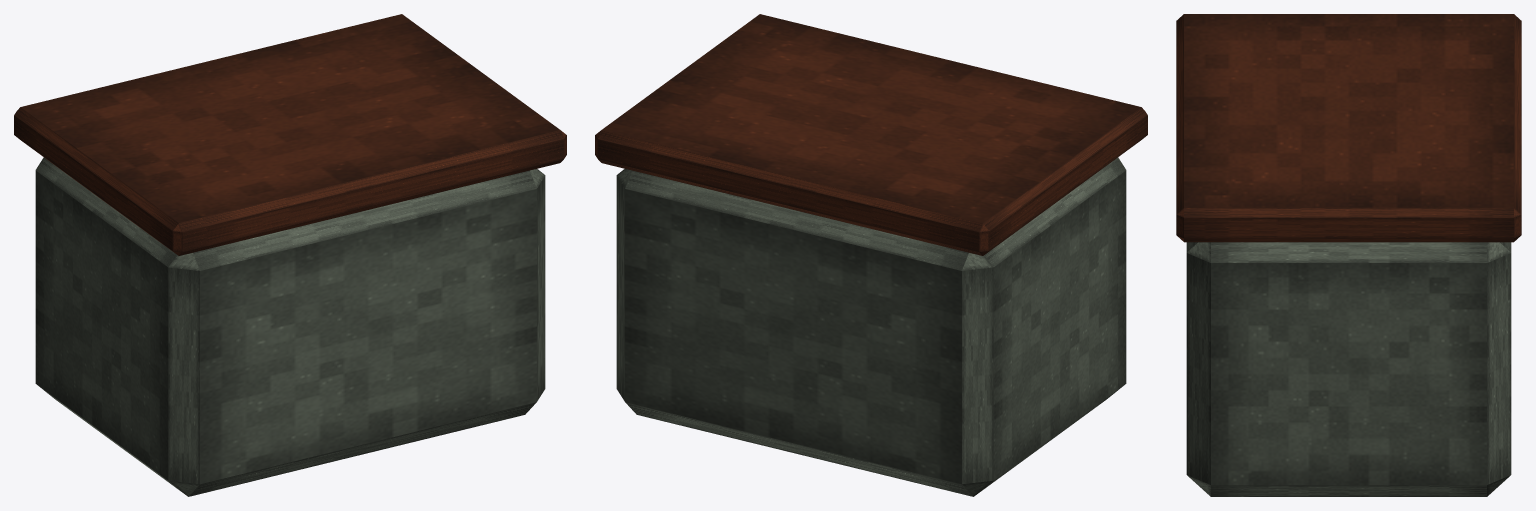
Rendered from THStage_FindSupport_05.fbx.
3 renders of one model, left to right at view 1: azimuth 30°, elevation 25°; view 2: azimuth 150°, elevation 25°; view 3: azimuth 270°, elevation 25°, orthographic. The views are drawn at different scales.
Visible parts, largest first — view 1: THStage_FindSupport_05.009; view 2: THStage_FindSupport_05.009; view 3: THStage_FindSupport_05.009.
Part boxes in pixels (x1,y1,x2,y2): THStage_FindSupport_05.009: [14, 14, 566, 496]; THStage_FindSupport_05.009: [595, 14, 1147, 496]; THStage_FindSupport_05.009: [1176, 14, 1521, 496].
Bounding box in the file's own units: 0.35 × 0.245 × 0.255.
Materials: 1 (1 with a texture image).
